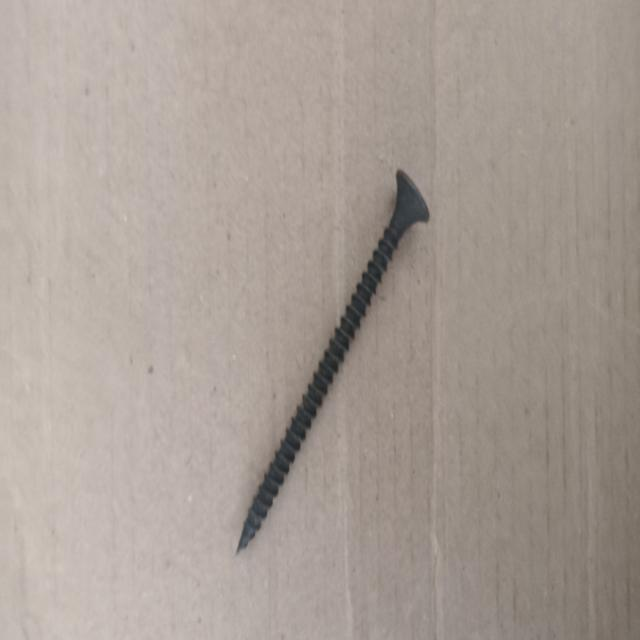screw: (235, 168, 429, 555)
